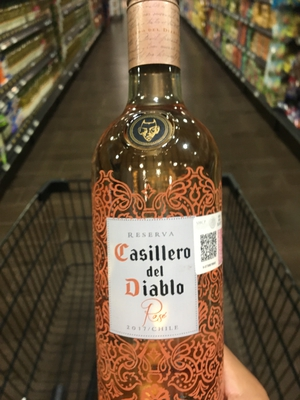casillero del diablo rose: (86, 7, 253, 400)
